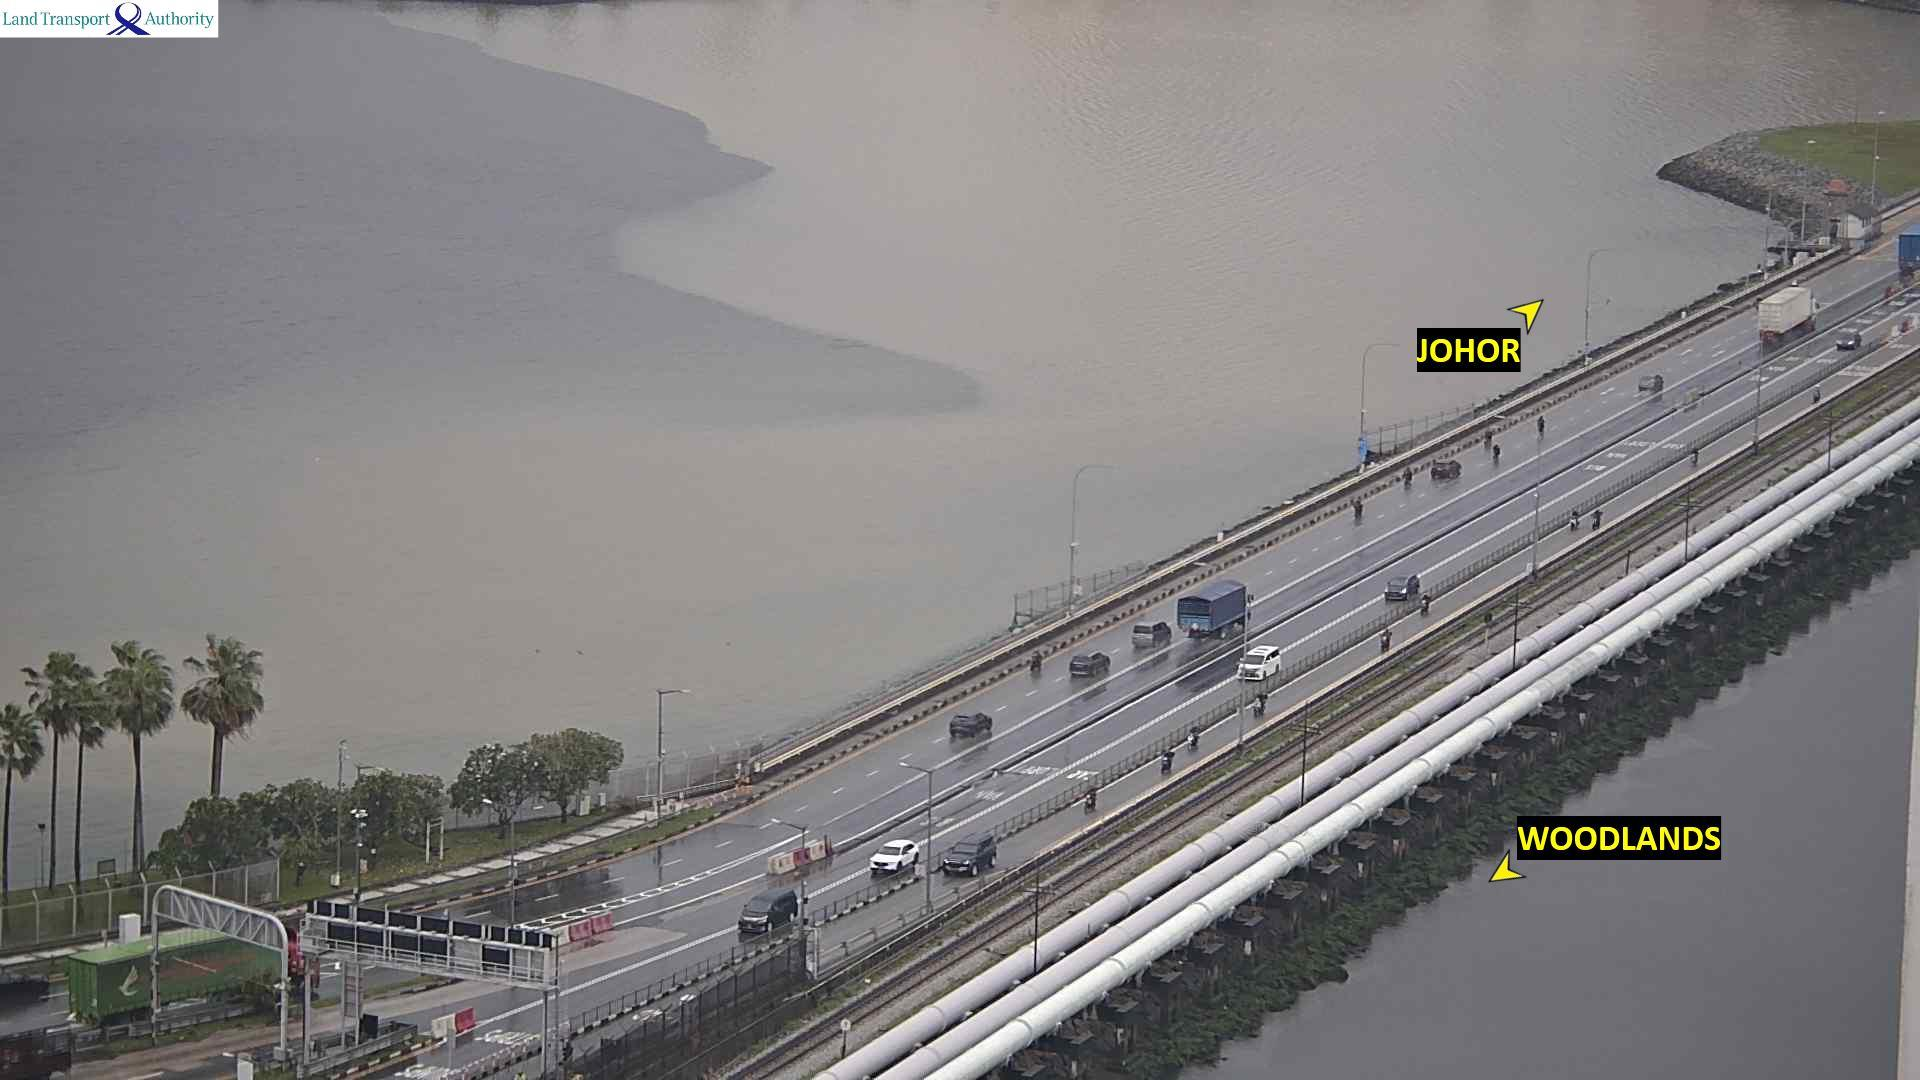vehicle-causeway-johor: (1178, 582, 1254, 637), (1759, 286, 1815, 341), (947, 711, 994, 740), (1065, 651, 1108, 681), (1130, 619, 1173, 647), (1435, 459, 1465, 483), (1636, 370, 1661, 396), (1650, 370, 1671, 398)
vehicle-causeway-singapore: (942, 841, 999, 879), (867, 844, 923, 877), (1238, 647, 1281, 679), (1384, 575, 1419, 603)
